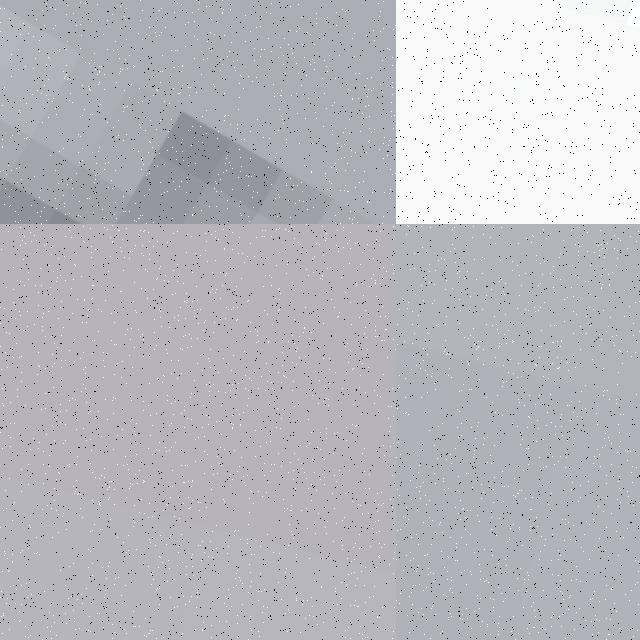drone: (0, 0, 396, 224)
